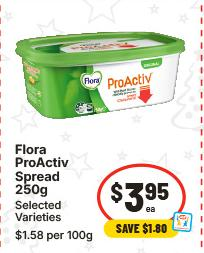description_block: (6, 139, 78, 198)
price_main: (92, 162, 198, 221)
product_image_block: (12, 19, 194, 126)
promo_text_block: (102, 220, 184, 241)
unit_price_block: (6, 223, 96, 246)
